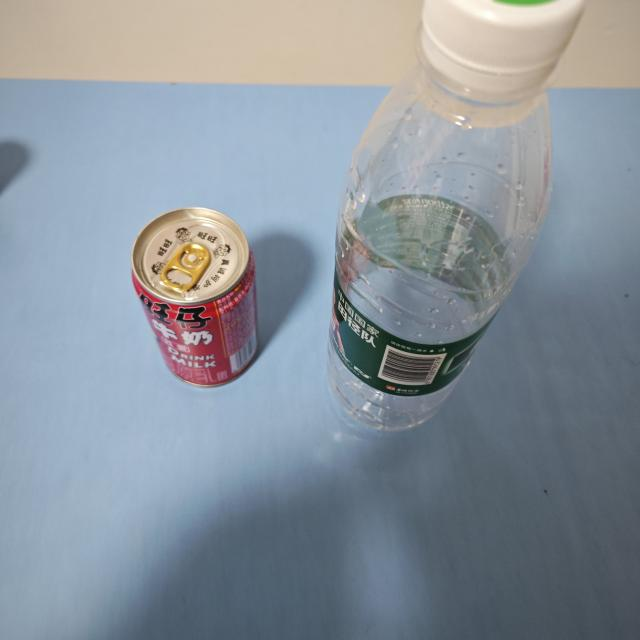-Recyclables - can-: (127, 200, 265, 385)
-Recyclables - plastic bottle-: (340, 0, 574, 438)
